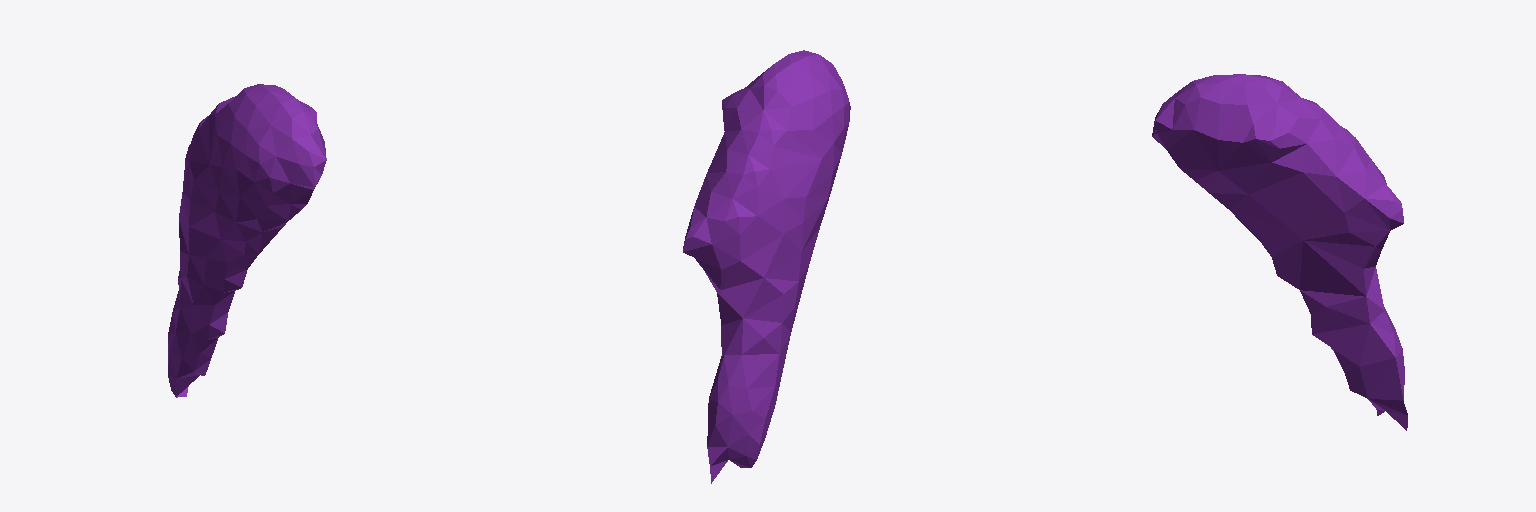
Rendered from Model_352_RH__Arcuate_hypothalamic_nucleus_(Arc).obj.
3 renders of one model, left to right at view 1: azimuth 30°, elevation 25°; view 2: azimuth 150°, elevation 25°; view 3: azimuth 270°, elevation 25°, orthographic.
Bounding box in the file's own units: 0.3649 × 1.23 × 0.7941.